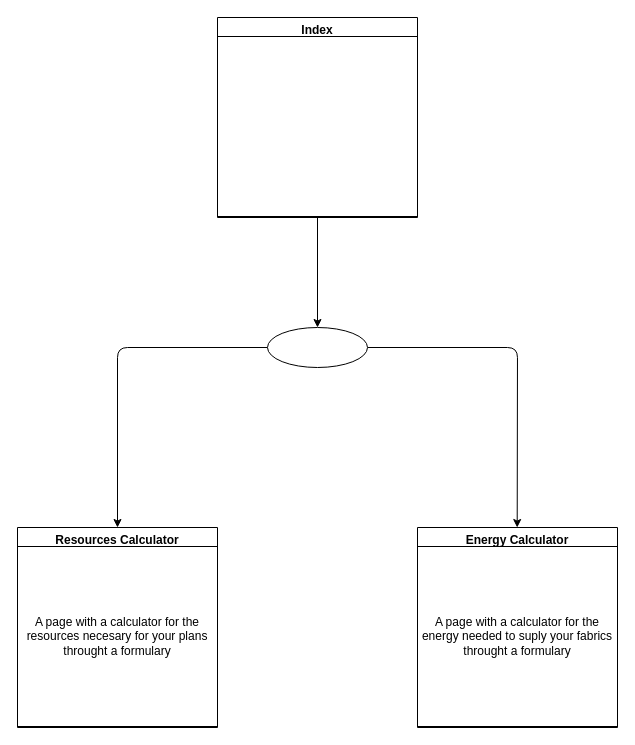
Image size: 635x745. Some labels were removed from this diagram. The shapes that lost their labels are listed below. From the top down, each one's centre as x and y in pixels, then its label:
pixel 317 126: Main page with the menu of the resourses calculator and energy calculator
pixel 317 347: Log in
